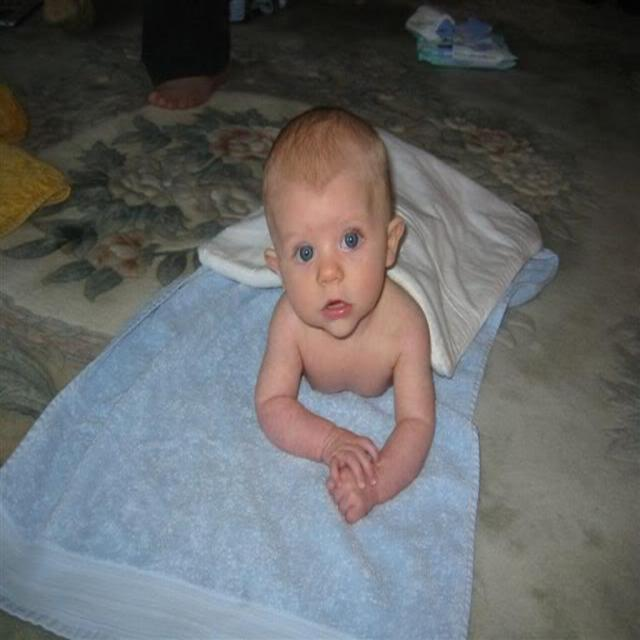Face: (261, 157, 404, 340)
